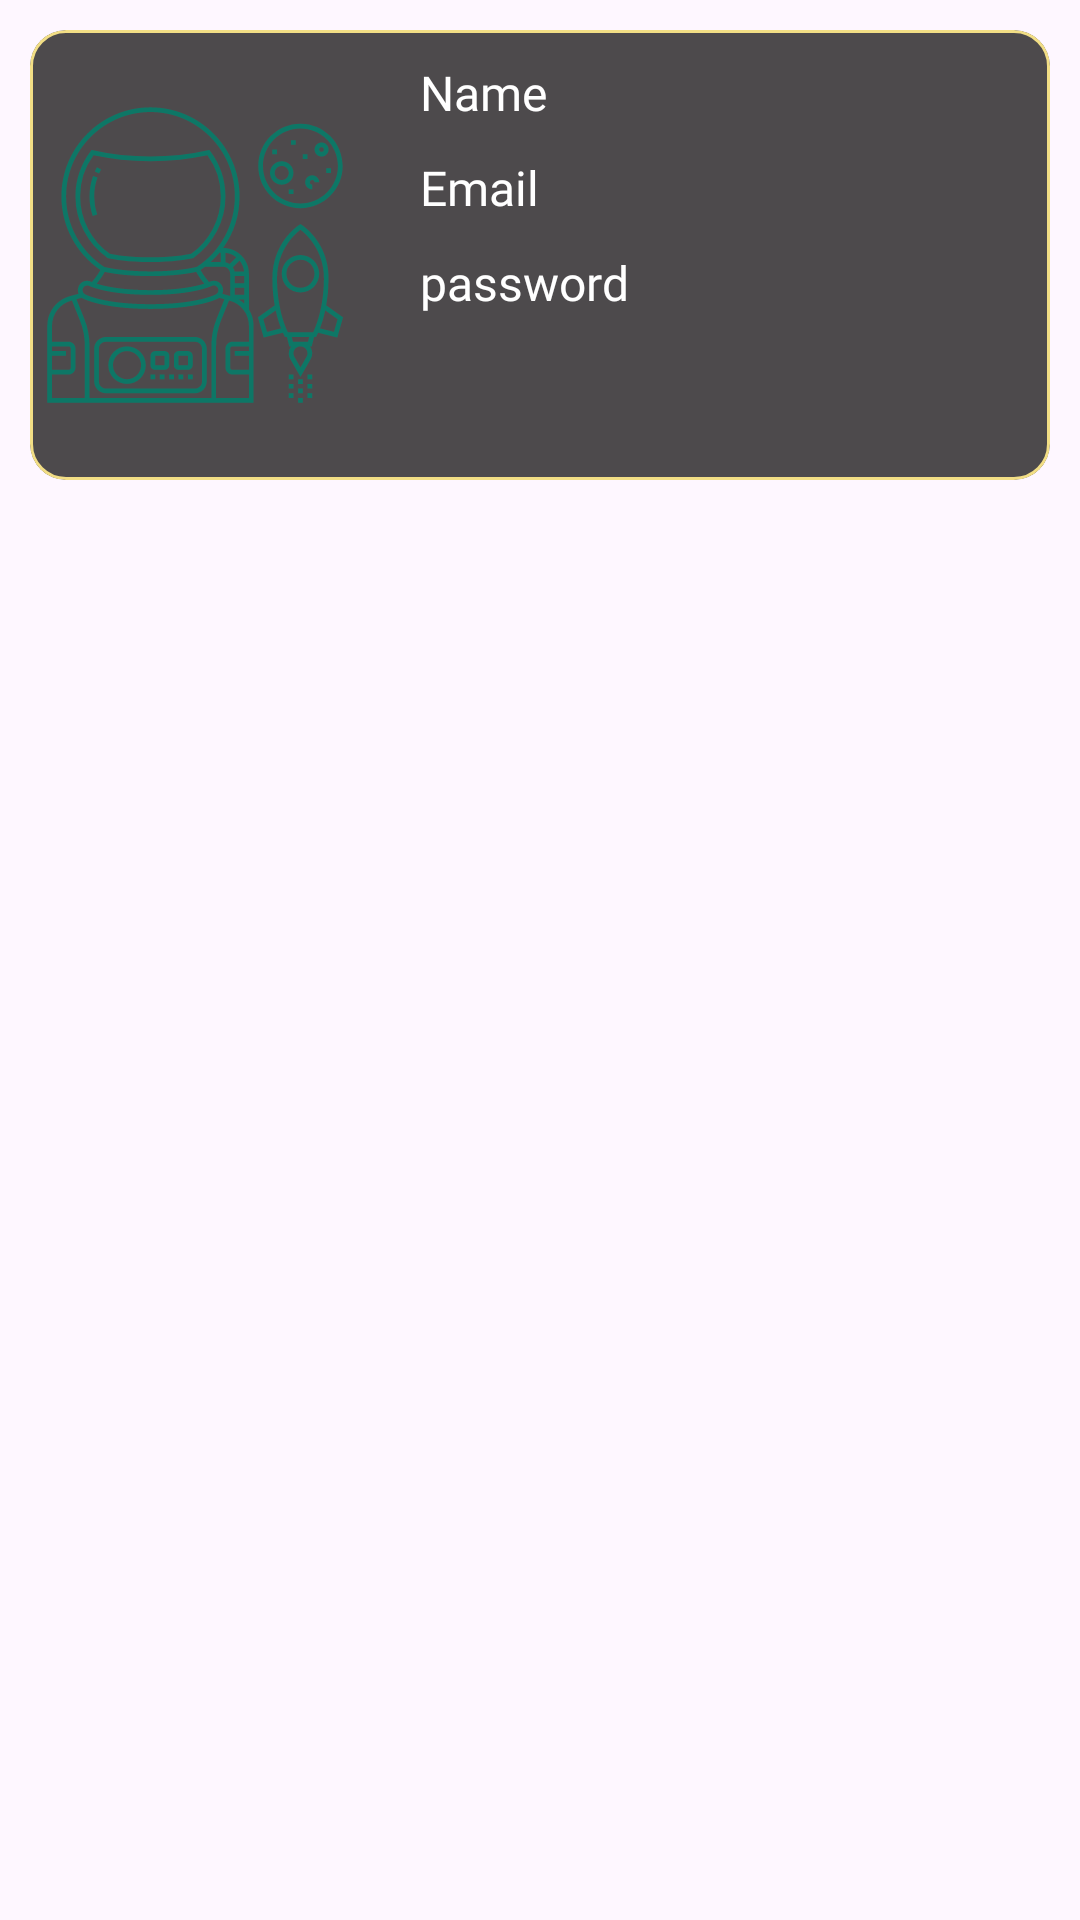

Icons on this 1080px x 1920px Android screen, each with the point to tap as (x=x, y=y):
astronaut: (x=195, y=255)
